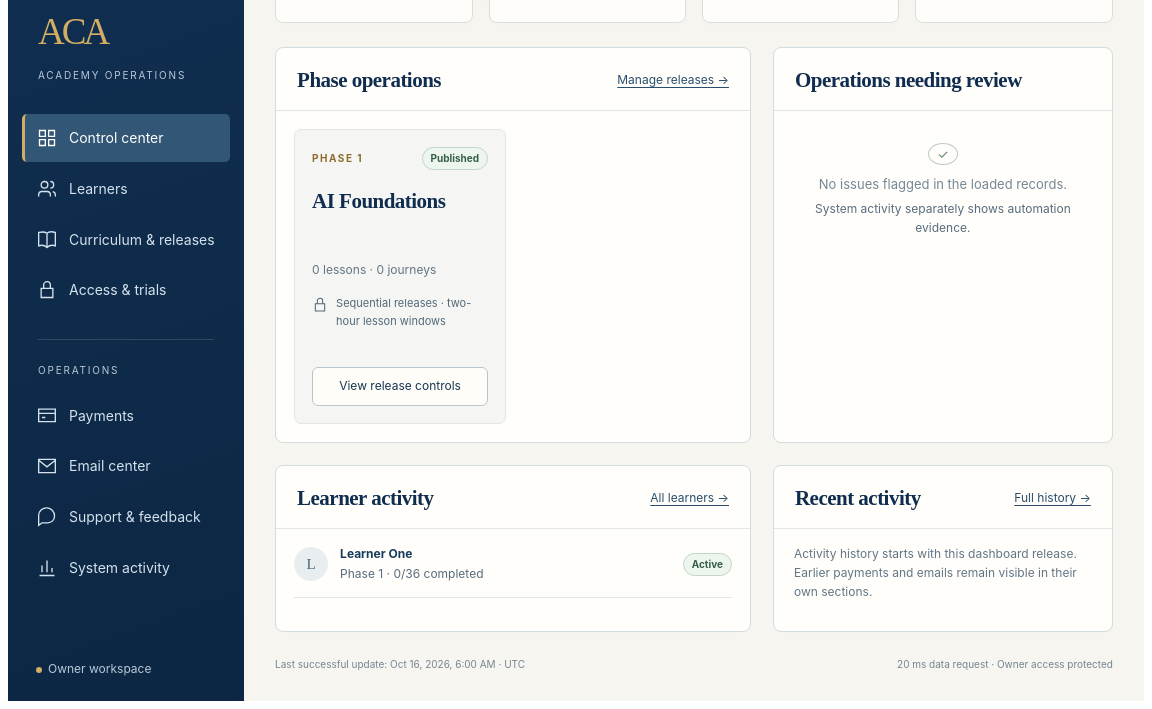
opens learner diagnostics using the selected enrollment rather than inventing progress
(page scrolled)
Expected: the heading "Phase operations" is shown, [297,67,441,94]
Click the button "L Learner One Phase 1 · 0/36 completed active" at x=311, y=564, box [294,531,732,598]
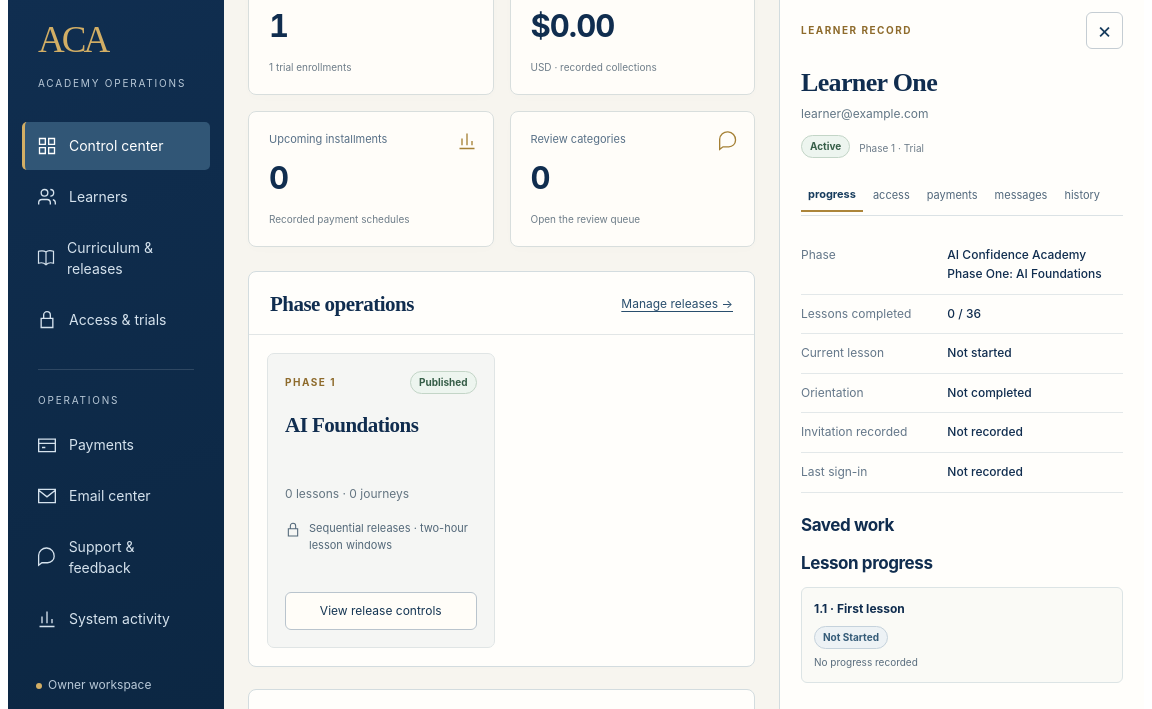
Expected: the heading "Learner One" is shown, [801,68,937,97]
Click the button "access" at x=891, y=196, box [866,179,917,212]
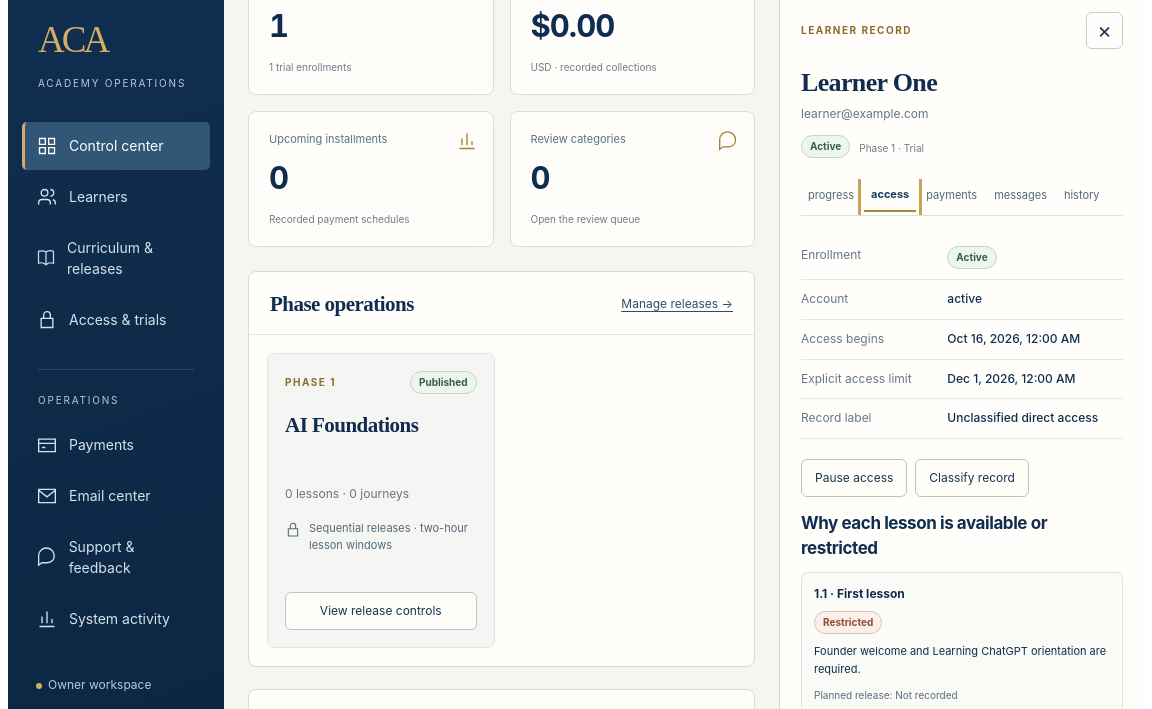
Expected: the text "Founder welcome and Learning ChatGPT orientation are required." is shown, [814,643,1110,678]
